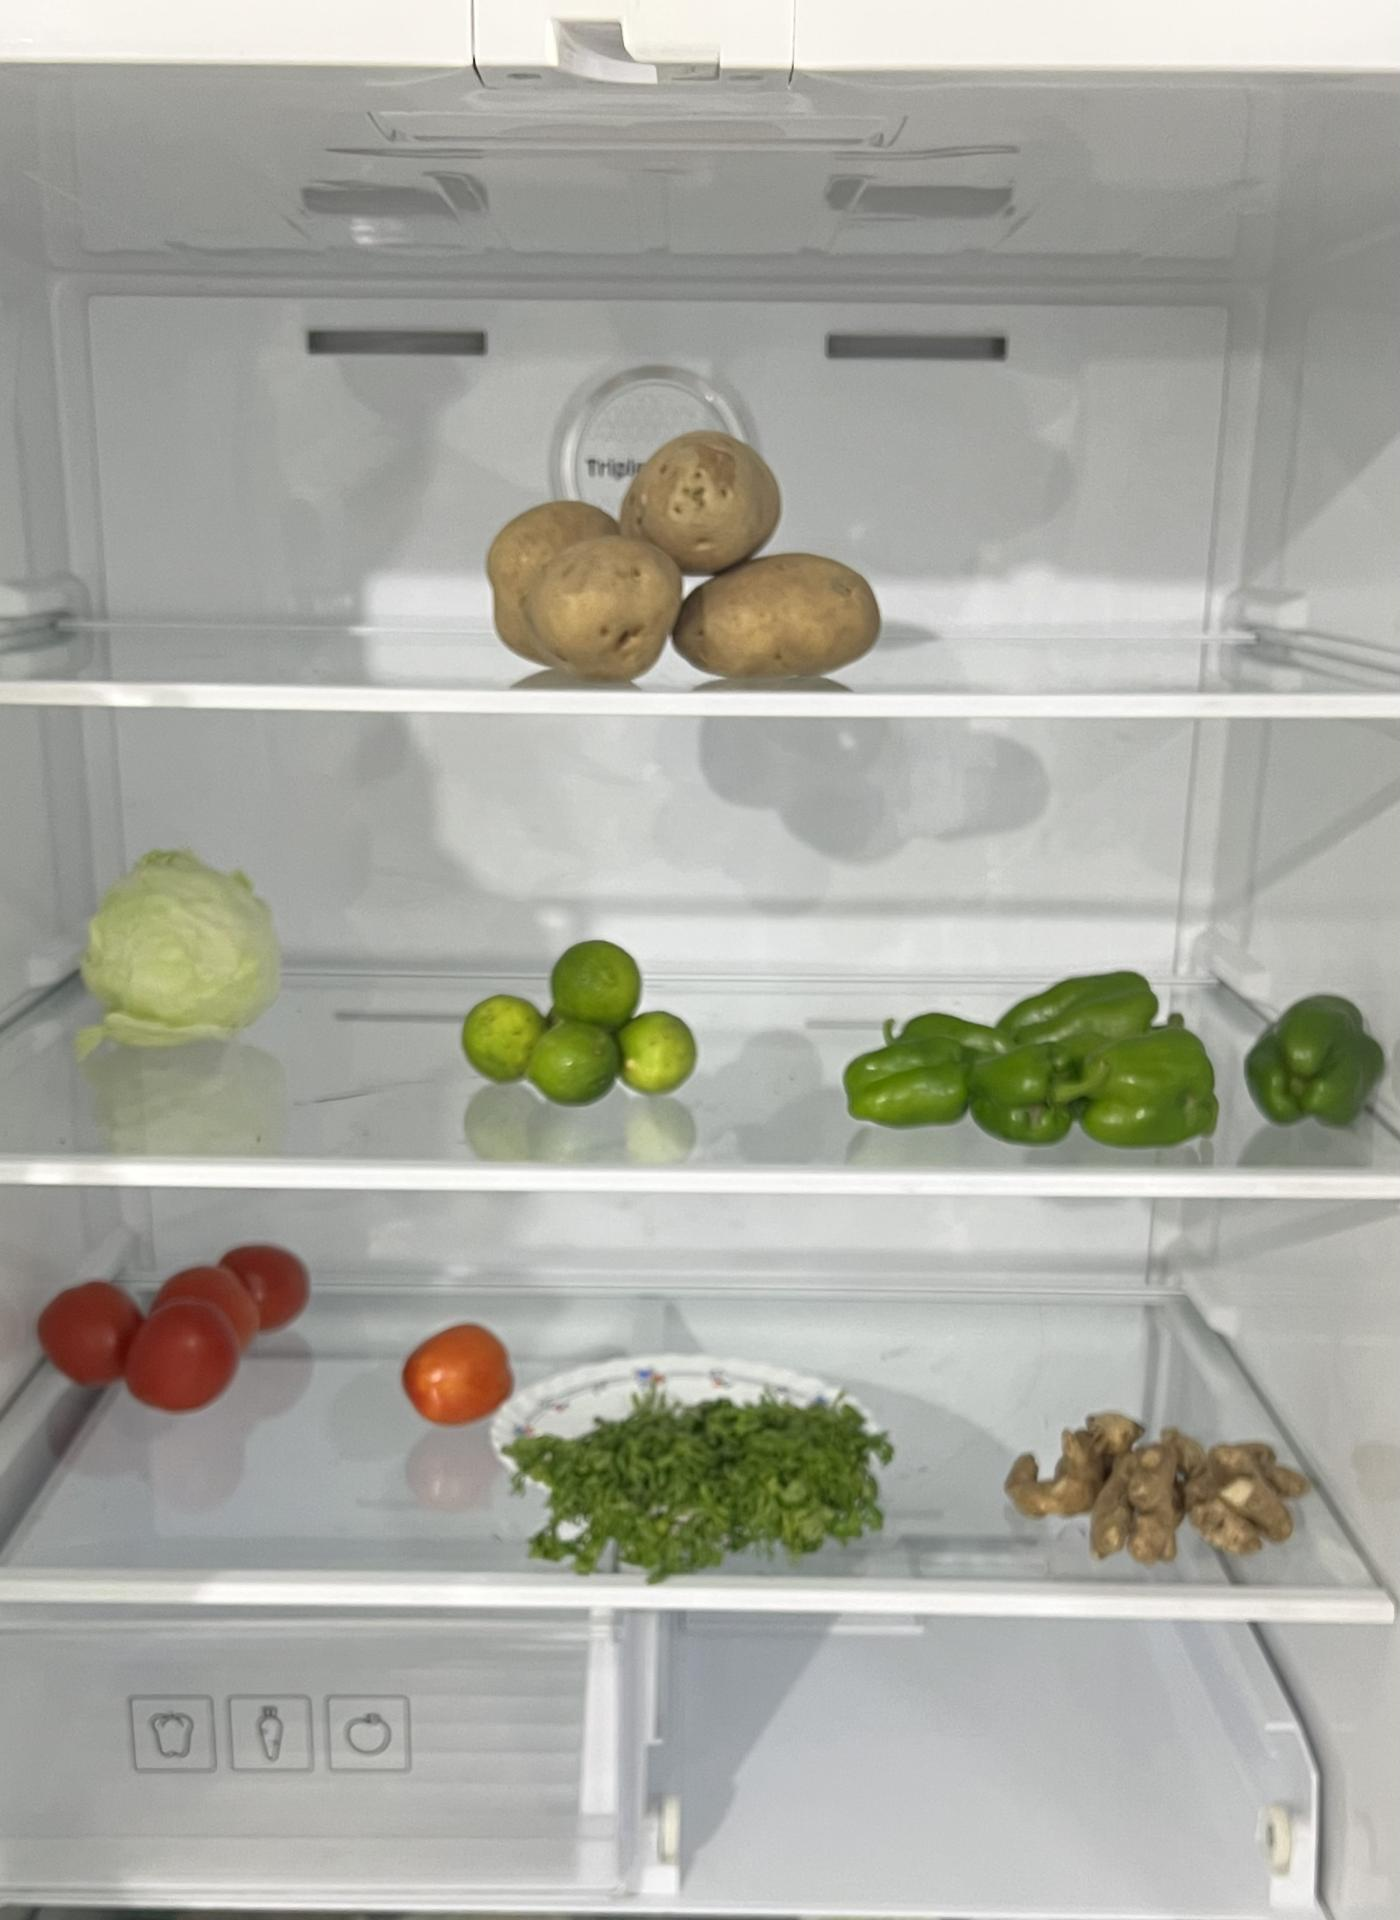cabbage: (78, 844, 285, 1042)
capsicum: (841, 964, 1381, 1146)
coriander: (525, 1385, 886, 1562)
ginger: (1003, 1404, 1308, 1565)
lemon: (459, 935, 698, 1102)
potato: (485, 426, 884, 687)
tomato: (31, 1236, 310, 1407), (400, 1322, 514, 1424)
